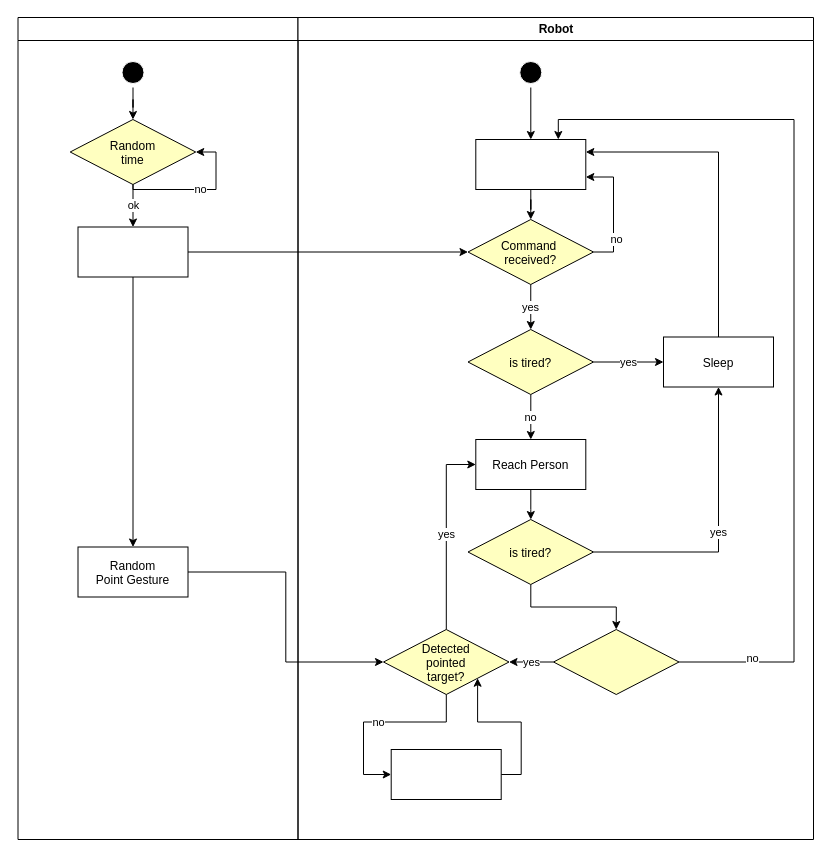
Some shapes in this 831 by 857 pixel diagram are drawn without their labels. The box of each missing label's shape, as (x1, y1, x2, y2) in pixels:
it wants to play again?: (552, 628, 679, 694)
Move Randomly: (475, 138, 586, 190)
Person: (17, 16, 298, 840)
Play command: (77, 226, 188, 277)
Wait in position: (390, 748, 501, 800)
